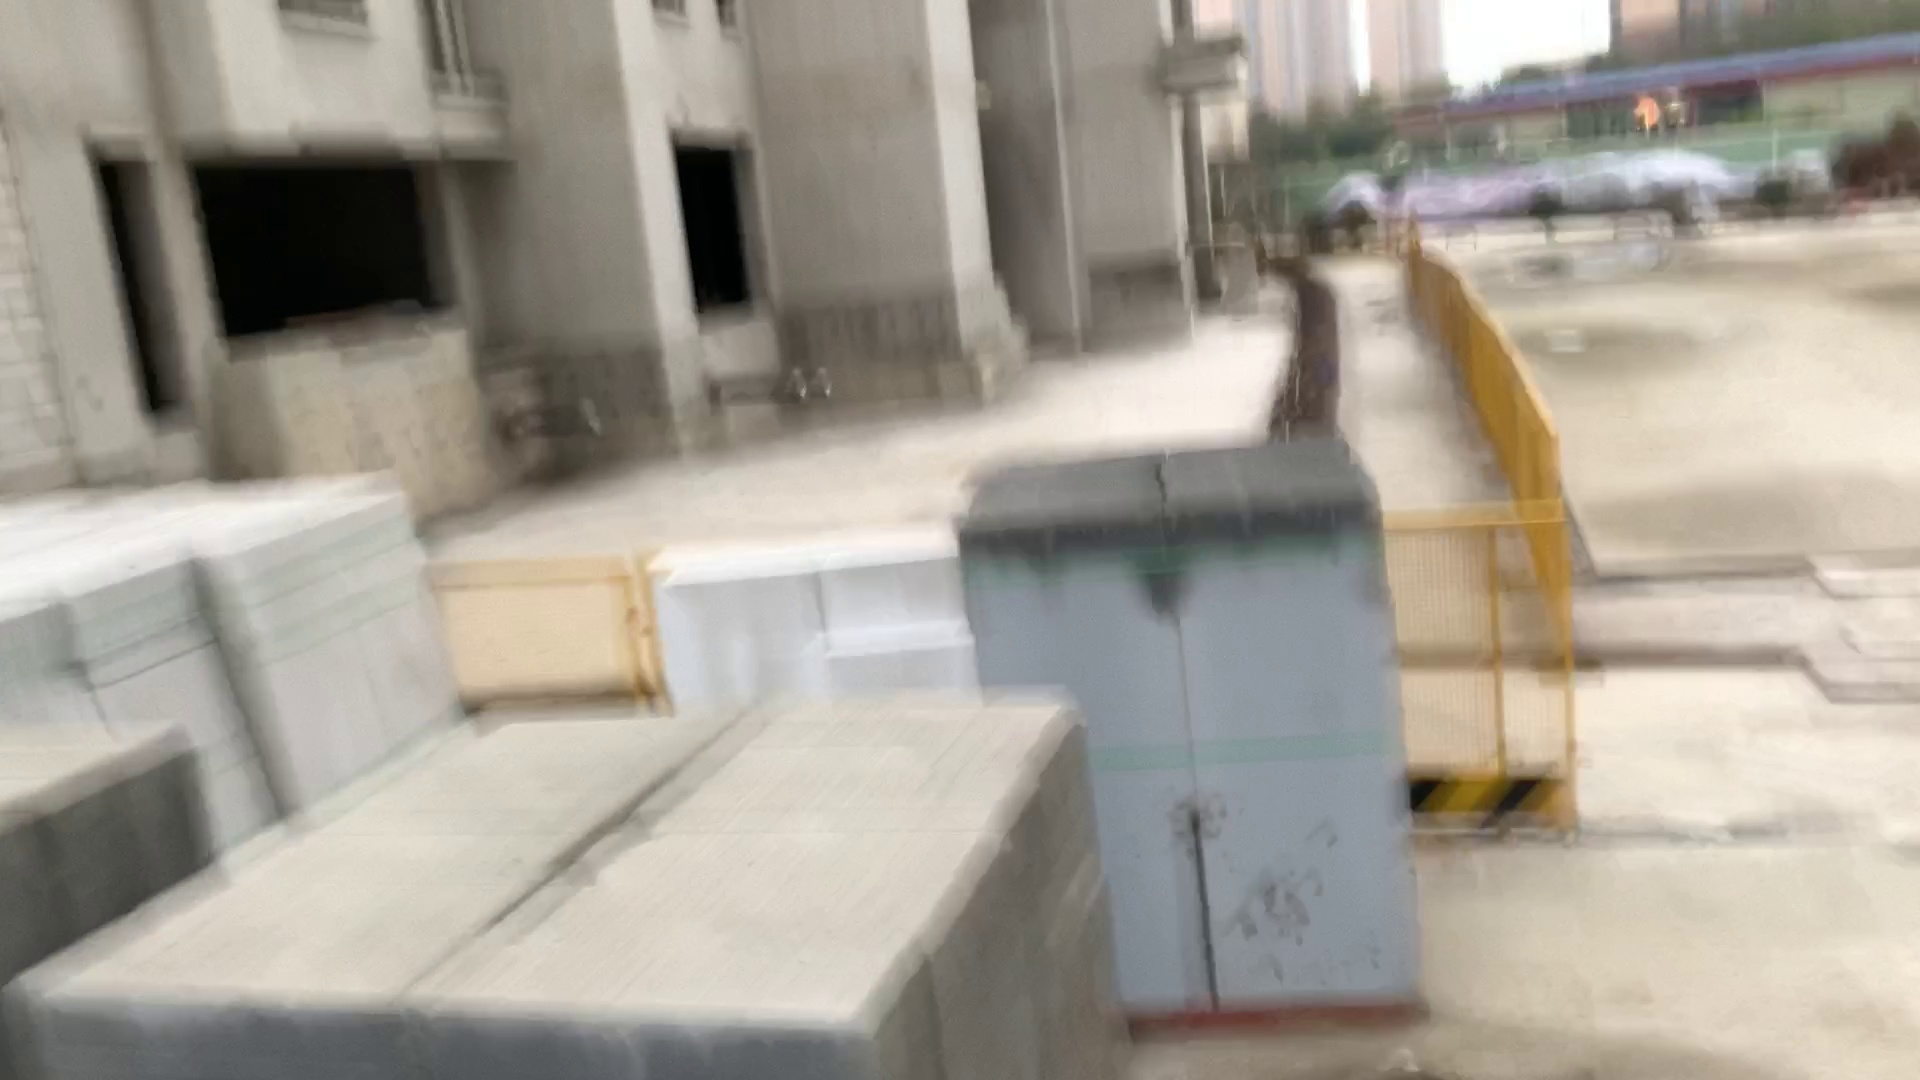brickwork: (37, 699, 1104, 1062), (963, 448, 1389, 676), (7, 489, 414, 657), (3, 727, 196, 872)
